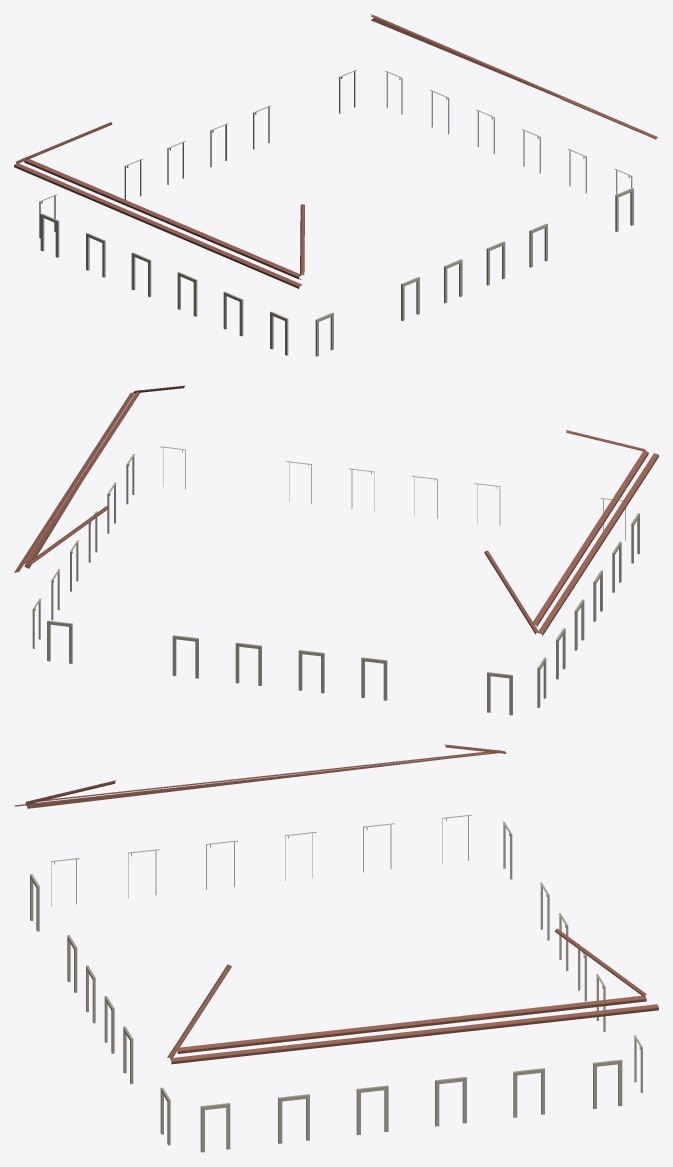
3 renders of one model, top to bottom at view 1: azimuth 30°, elevation 25°; view 2: azimuth 150°, elevation 25°; view 3: azimuth 270°, elevation 25°, orthographic. The views are drawn at different scales.
Visible parts, largest first — view 1: detail; view 2: detail; view 3: detail.
Part boxes in pixels (left/top/right/bottom): detail: left=14, top=14, right=658, bottom=356; detail: left=14, top=385, right=658, bottom=715; detail: left=14, top=744, right=658, bottom=1152.
Size of the model in its own units: 39.62 by 9.03 by 34.79.
